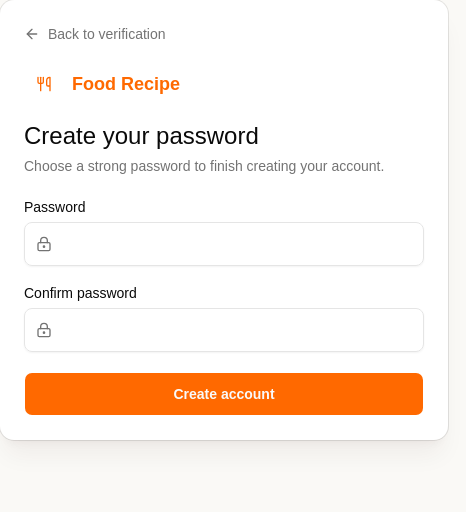
it: Password is required
Click the button "Create account": (224, 394) 24,372 -> 424,416
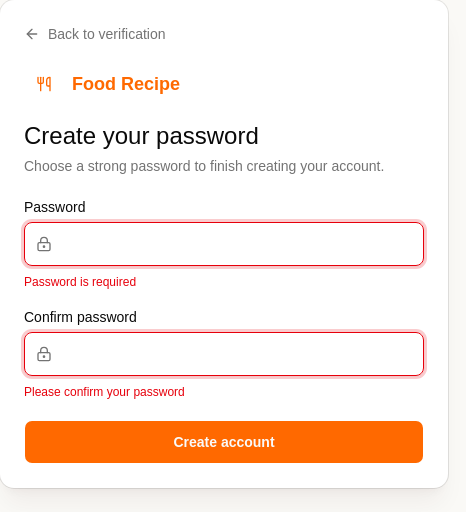
Expected: the text "Password is required" is shown, 24,275 -> 136,289
